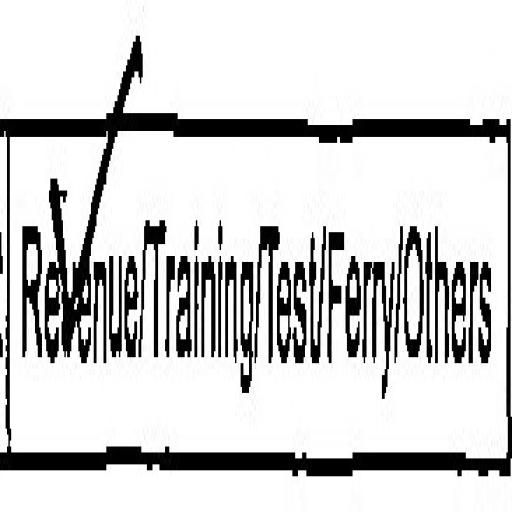check: (4, 4, 141, 512)
